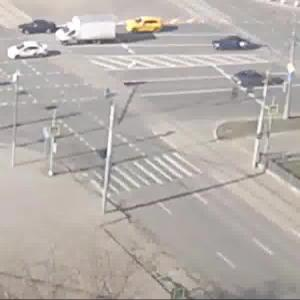car: (56, 17, 115, 49), (10, 39, 54, 63), (233, 71, 278, 90), (215, 34, 254, 54), (124, 17, 162, 36), (18, 20, 56, 38)
